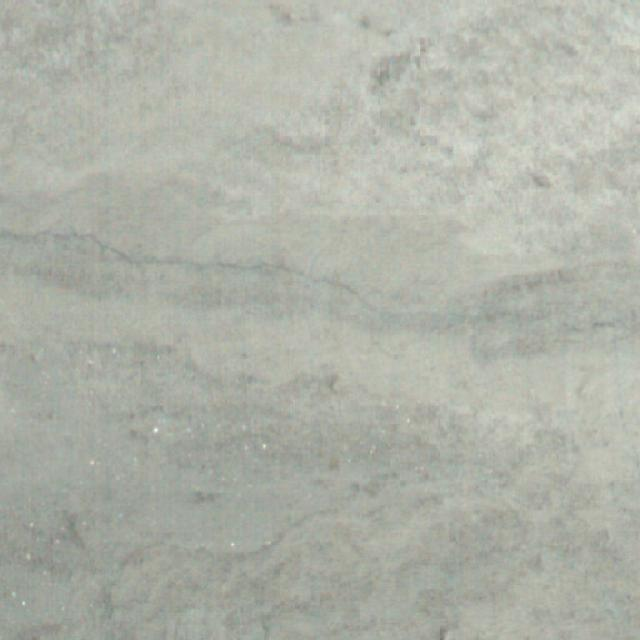Transverse: (0, 196, 631, 344)
